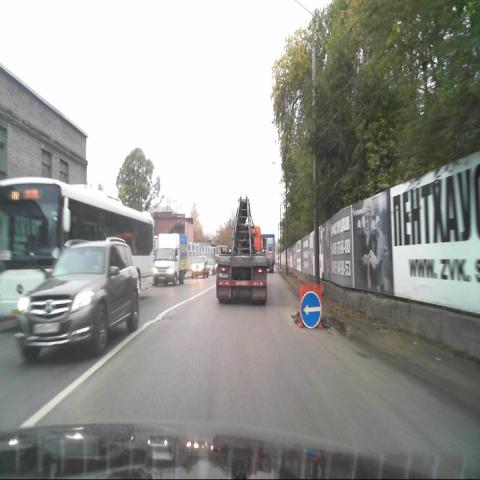4_1_2_2: (300, 292, 321, 329)
